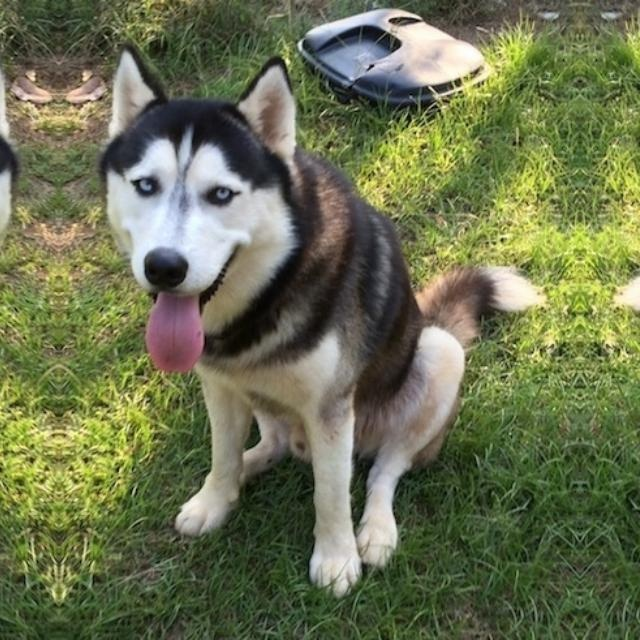dog: (60, 89, 488, 576), (0, 88, 60, 575)
